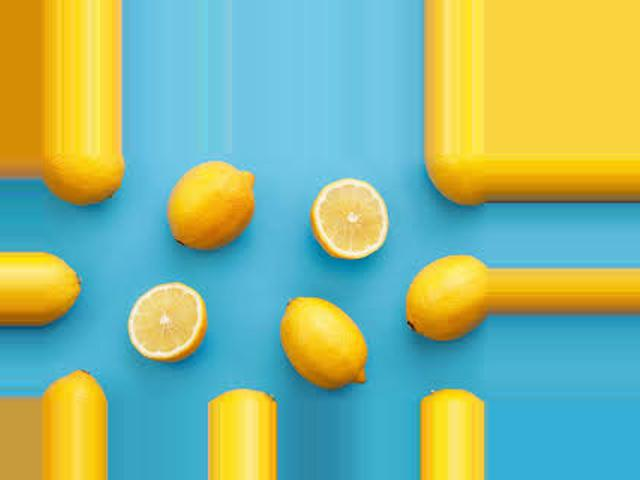lemon: (416, 155, 490, 214)
